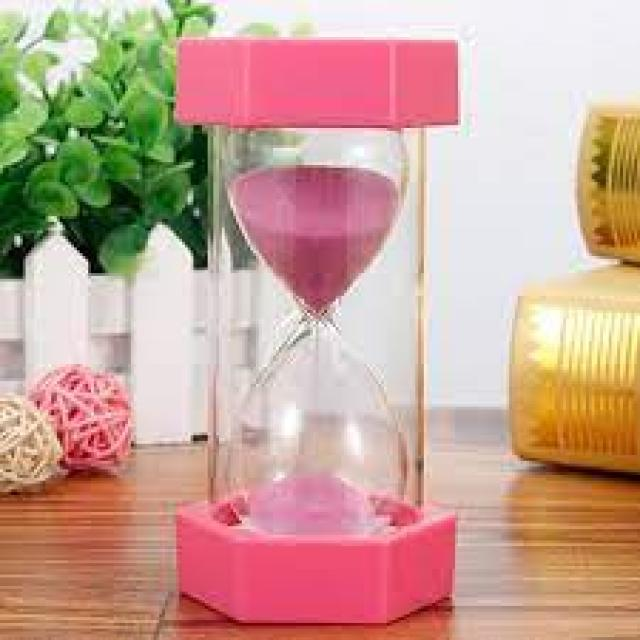clock: (149, 18, 475, 638)
